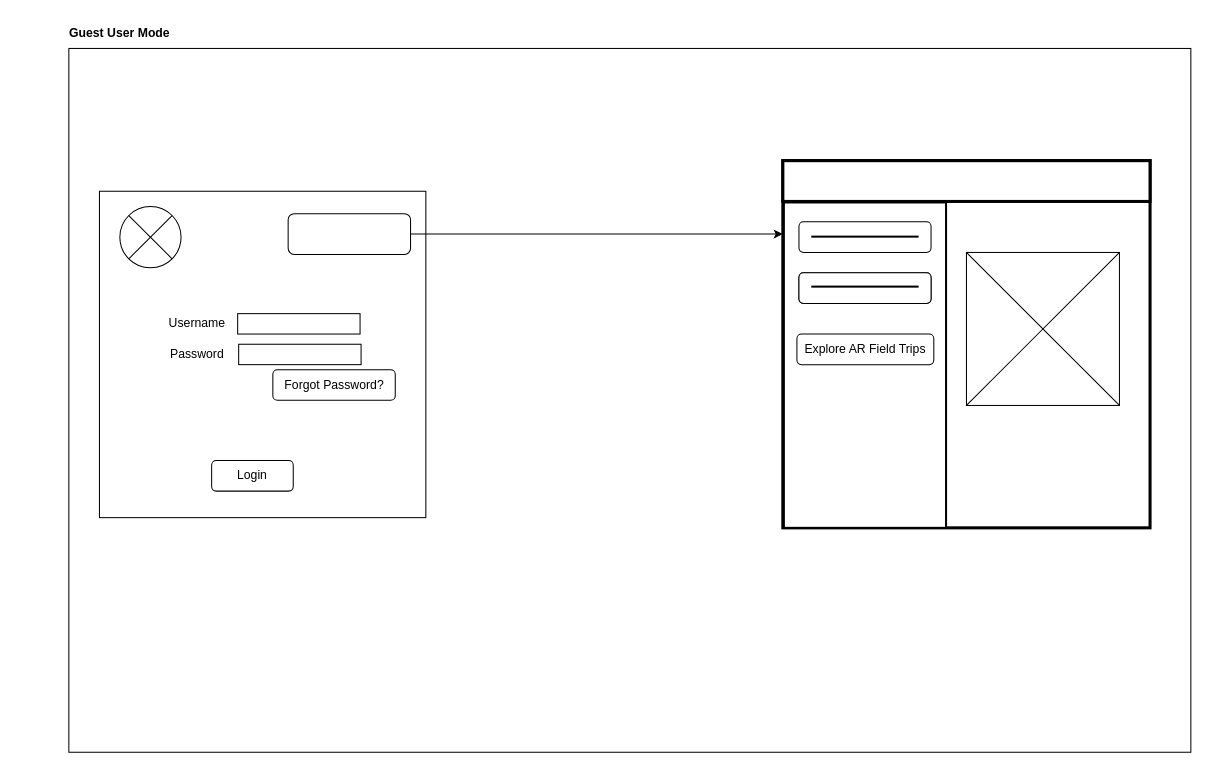
Image size: 1209x770. Some labels were removed from this diagram. The shapes that lost their labels are listed below. From the top down, each one's box as (x1, y1, x2, y2) in pixels, then its label:
(781, 159, 1151, 202): Guest Dashboard
(287, 213, 411, 254): Guest Mode
